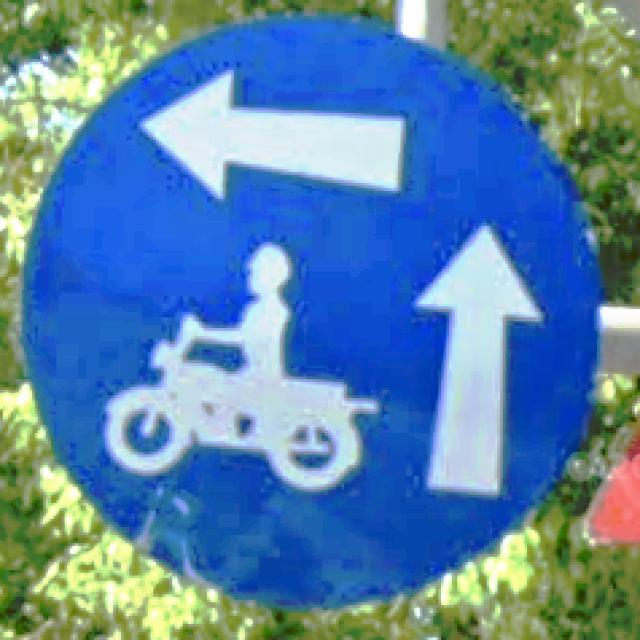twostageturn: (19, 16, 602, 613)
